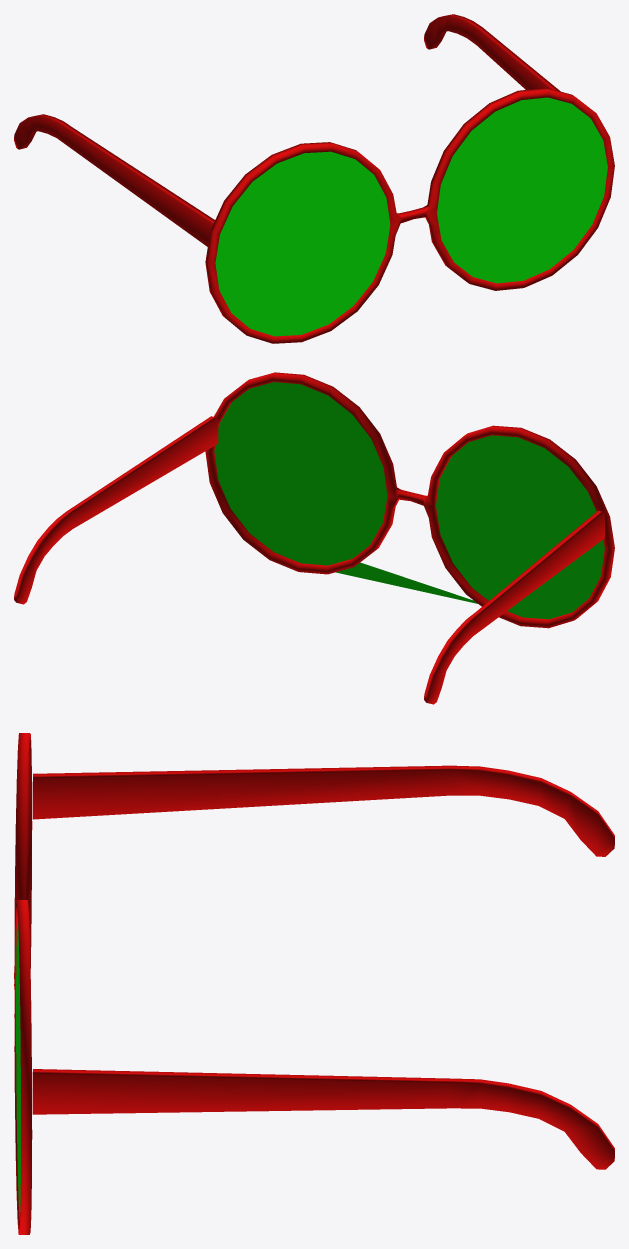
The model's file is UpperFace_RoundGlassesLens.glb.
3 views of the same model, one above another, from view 1: azimuth 30°, elevation 25°; view 2: azimuth 150°, elevation 25°; view 3: azimuth 270°, elevation 25° (orthographic). The views are drawn at different scales.
Visible parts, largest first — view 1: UpperFace_RoundGlassesLens; view 2: UpperFace_RoundGlassesLens; view 3: UpperFace_RoundGlassesLens.
Part boxes in pixels (x1,y1,x2,y2): UpperFace_RoundGlassesLens: (14, 14, 614, 343); UpperFace_RoundGlassesLens: (14, 372, 614, 704); UpperFace_RoundGlassesLens: (14, 733, 614, 1234).
Size of the model in its own units: 0.1863 by 0.0832 by 0.1484.
